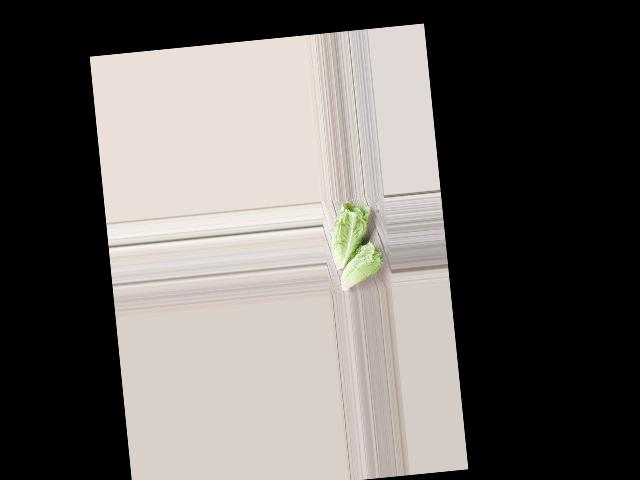lettuce: (334, 239, 390, 294)
